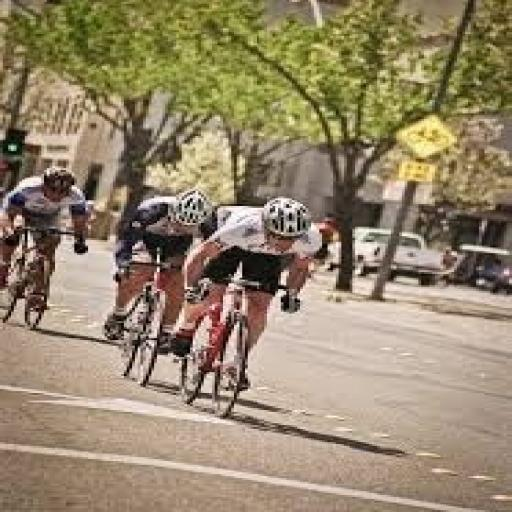cycling: (165, 194, 328, 395), (102, 189, 217, 353), (0, 164, 96, 317)
